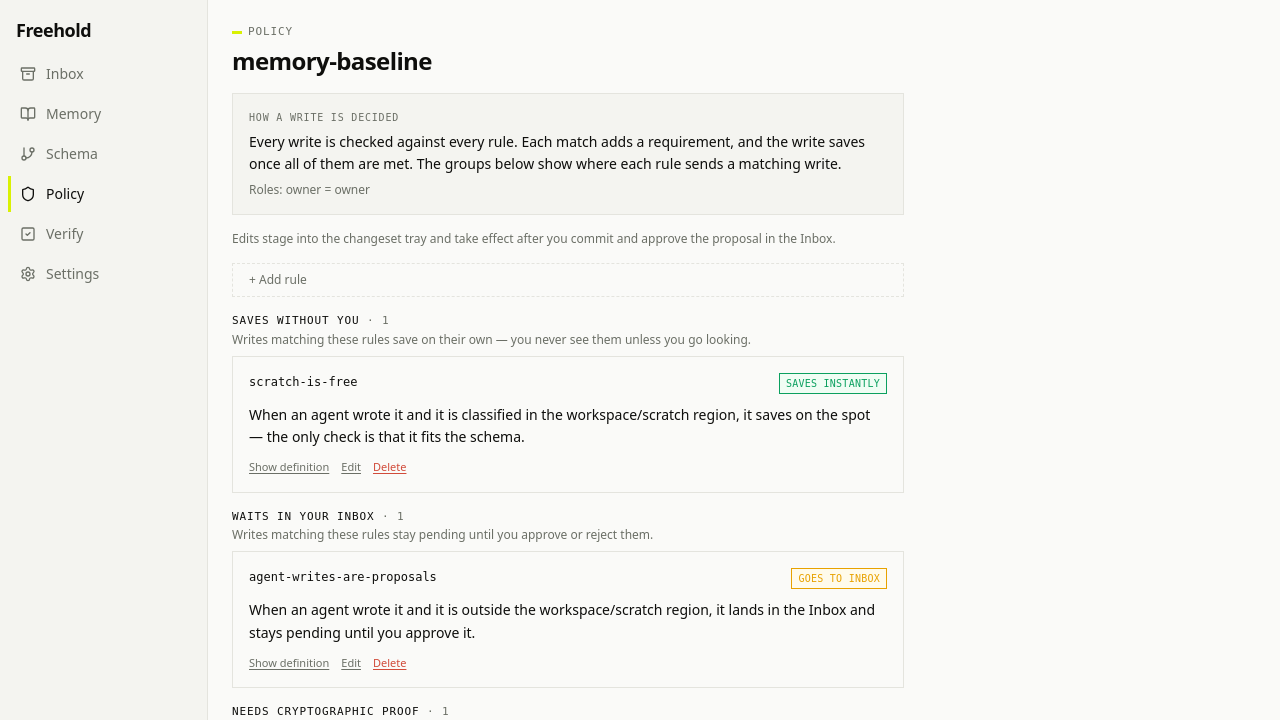
Test case: Policy structured editor + staging › shows 'Stage change' button instead of 'Propose change' on each rule card
The width and height of the screenshot is (1280, 720).
# After clicking Edit, should see Stage change
Click the button with test id "edit-rule-scratch-is-free": (351,467) x1=341 y1=459 x2=361 y2=476
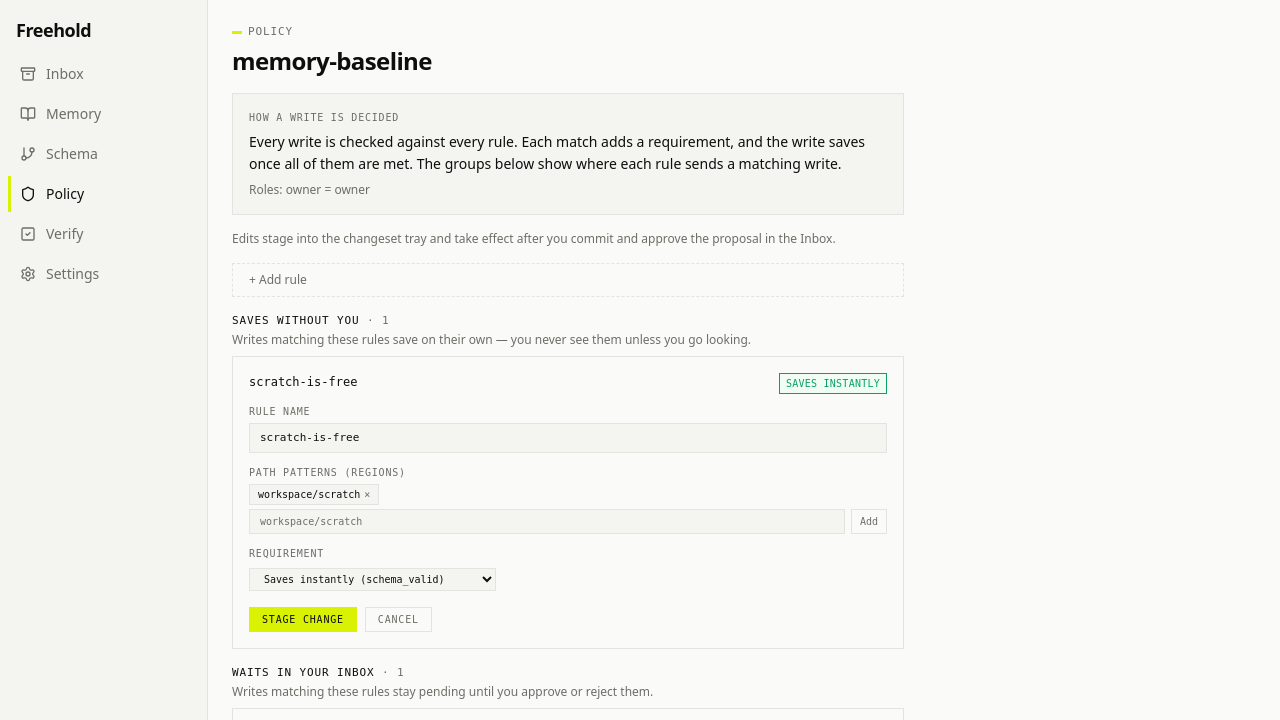
Expected: the button with test id "stage-rule-scratch-is-free" is shown, x1=249 y1=607 x2=357 y2=632
